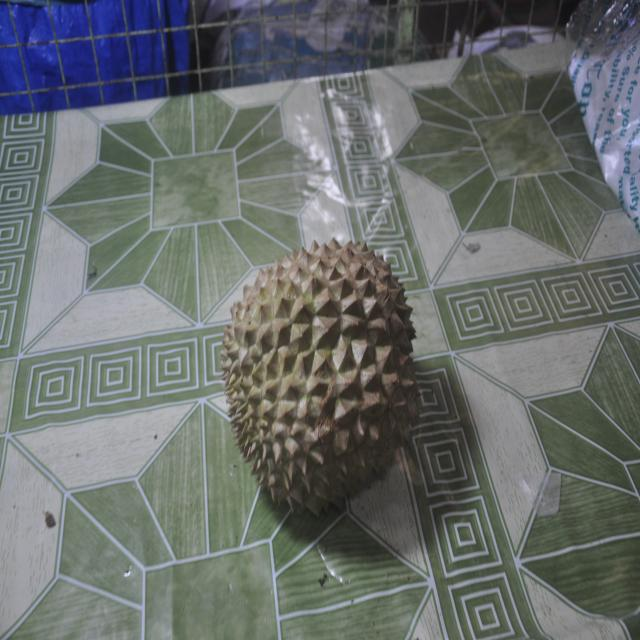mature: (222, 240, 420, 515)
